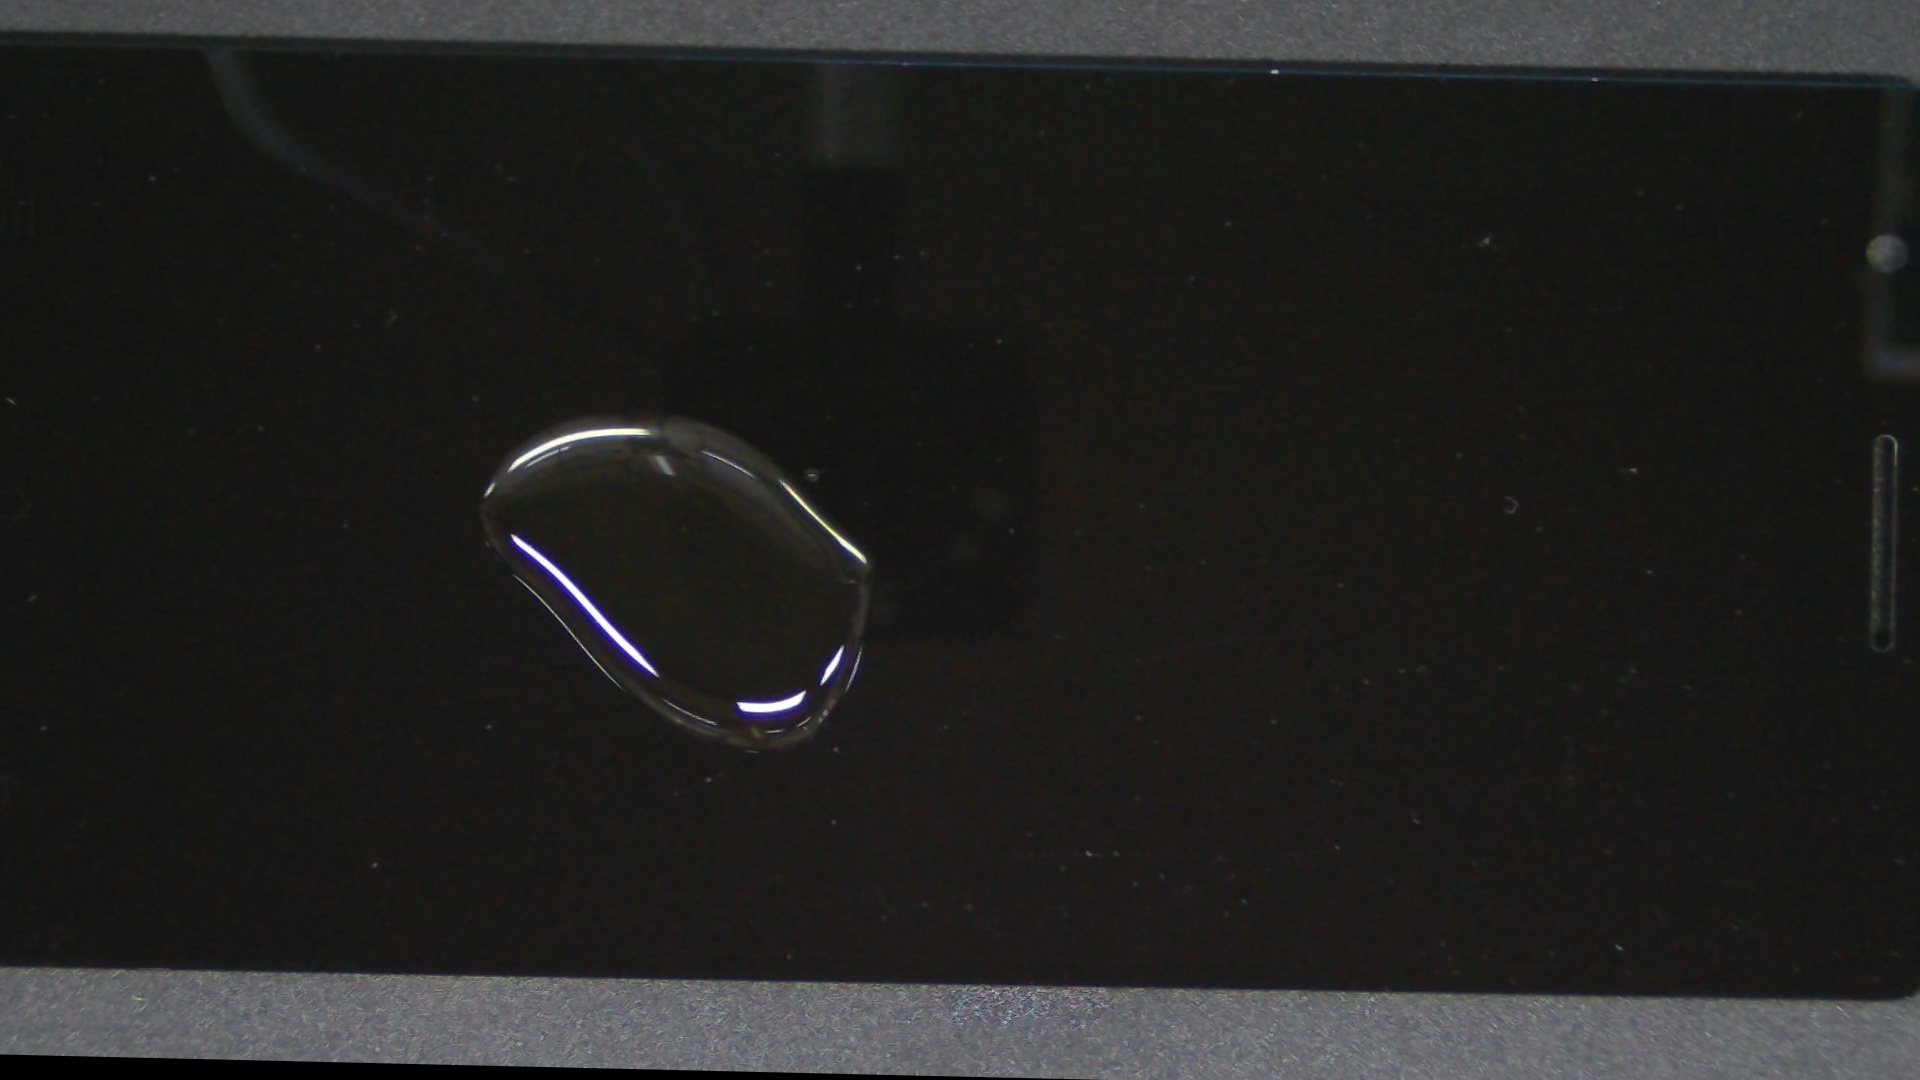oil: (210, 153, 1091, 670)
